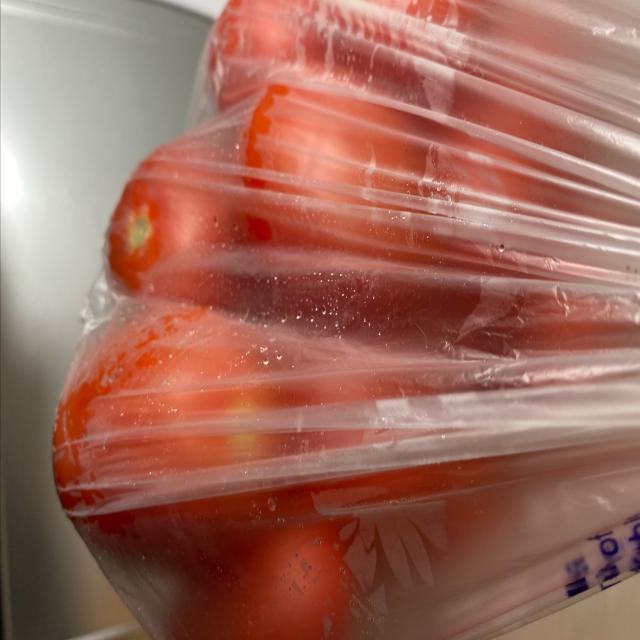tomato: (60, 0, 578, 635)
